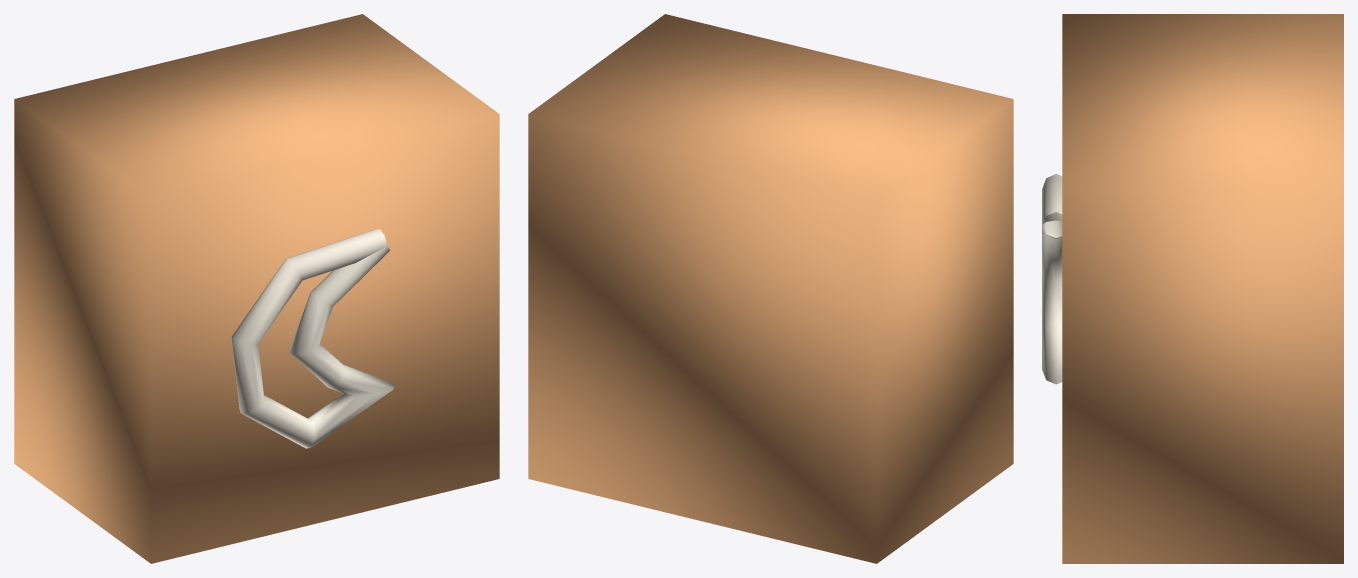
The model's file is block_orange.glb.
3 views of the same model, side by side, from view 1: azimuth 30°, elevation 25°; view 2: azimuth 150°, elevation 25°; view 3: azimuth 270°, elevation 25° (orthographic). The views are drawn at different scales.
Visible parts, largest first — view 1: orange, moon_icon; view 2: orange; view 3: orange, moon_icon.
Part boxes in pixels (x1,y1,x2,y2): orange: [14, 14, 499, 563]; moon_icon: [231, 229, 395, 448]; orange: [528, 14, 1013, 563]; orange: [1062, 14, 1343, 563]; moon_icon: [1042, 174, 1062, 384].
Size of the model in its own units: 1 by 1 by 0.729.
